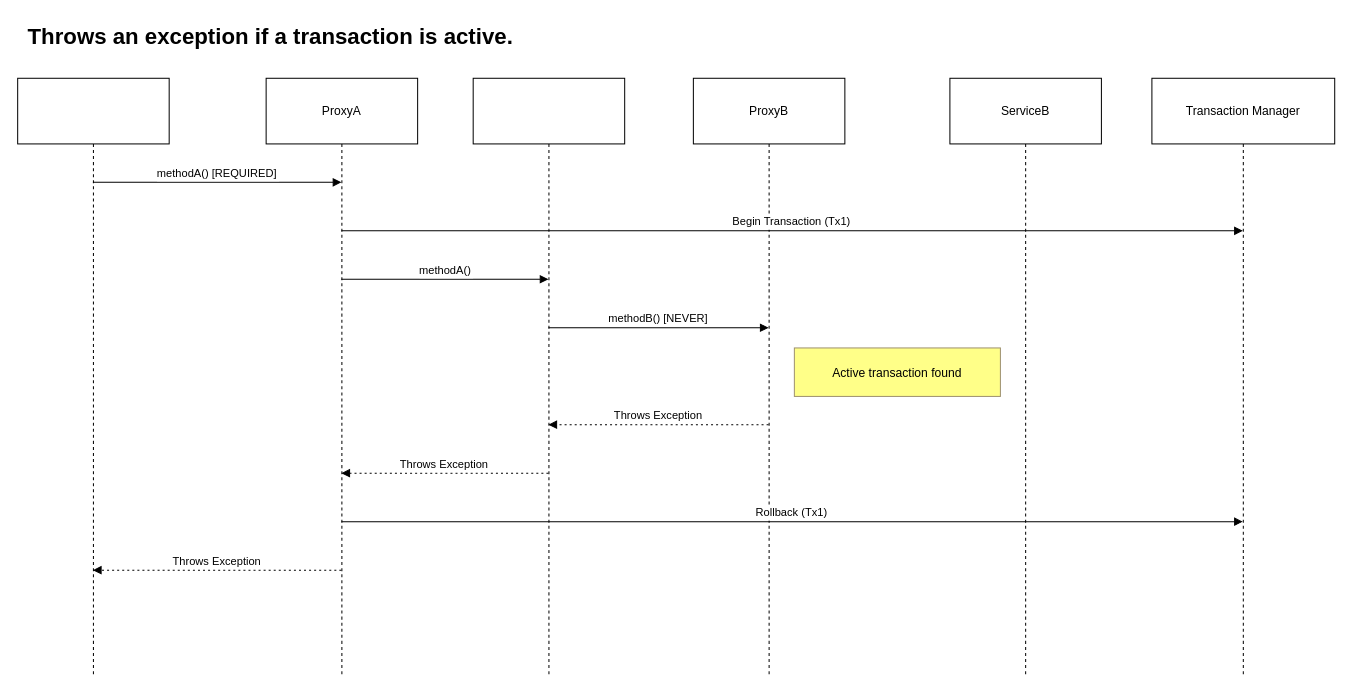
Some shapes in this 1352 by 694 pixel diagram are drawn without their labels. The box of each missing label's shape, as (x1, y1, x2, y2) in pixels:
Client: (17, 77, 169, 676)
ServiceA: (472, 77, 625, 676)
